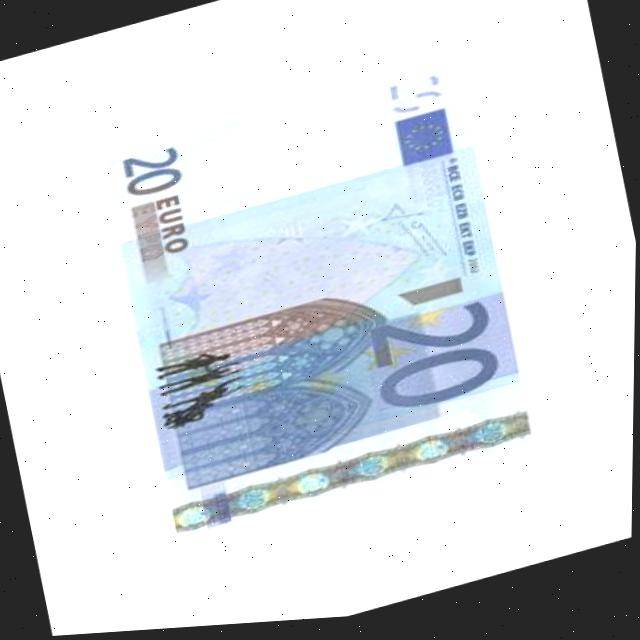banknote: (96, 55, 544, 552), (360, 300, 509, 432), (140, 331, 274, 452), (110, 138, 199, 209), (372, 72, 449, 130), (349, 450, 395, 490), (233, 481, 277, 522), (464, 426, 511, 458)
